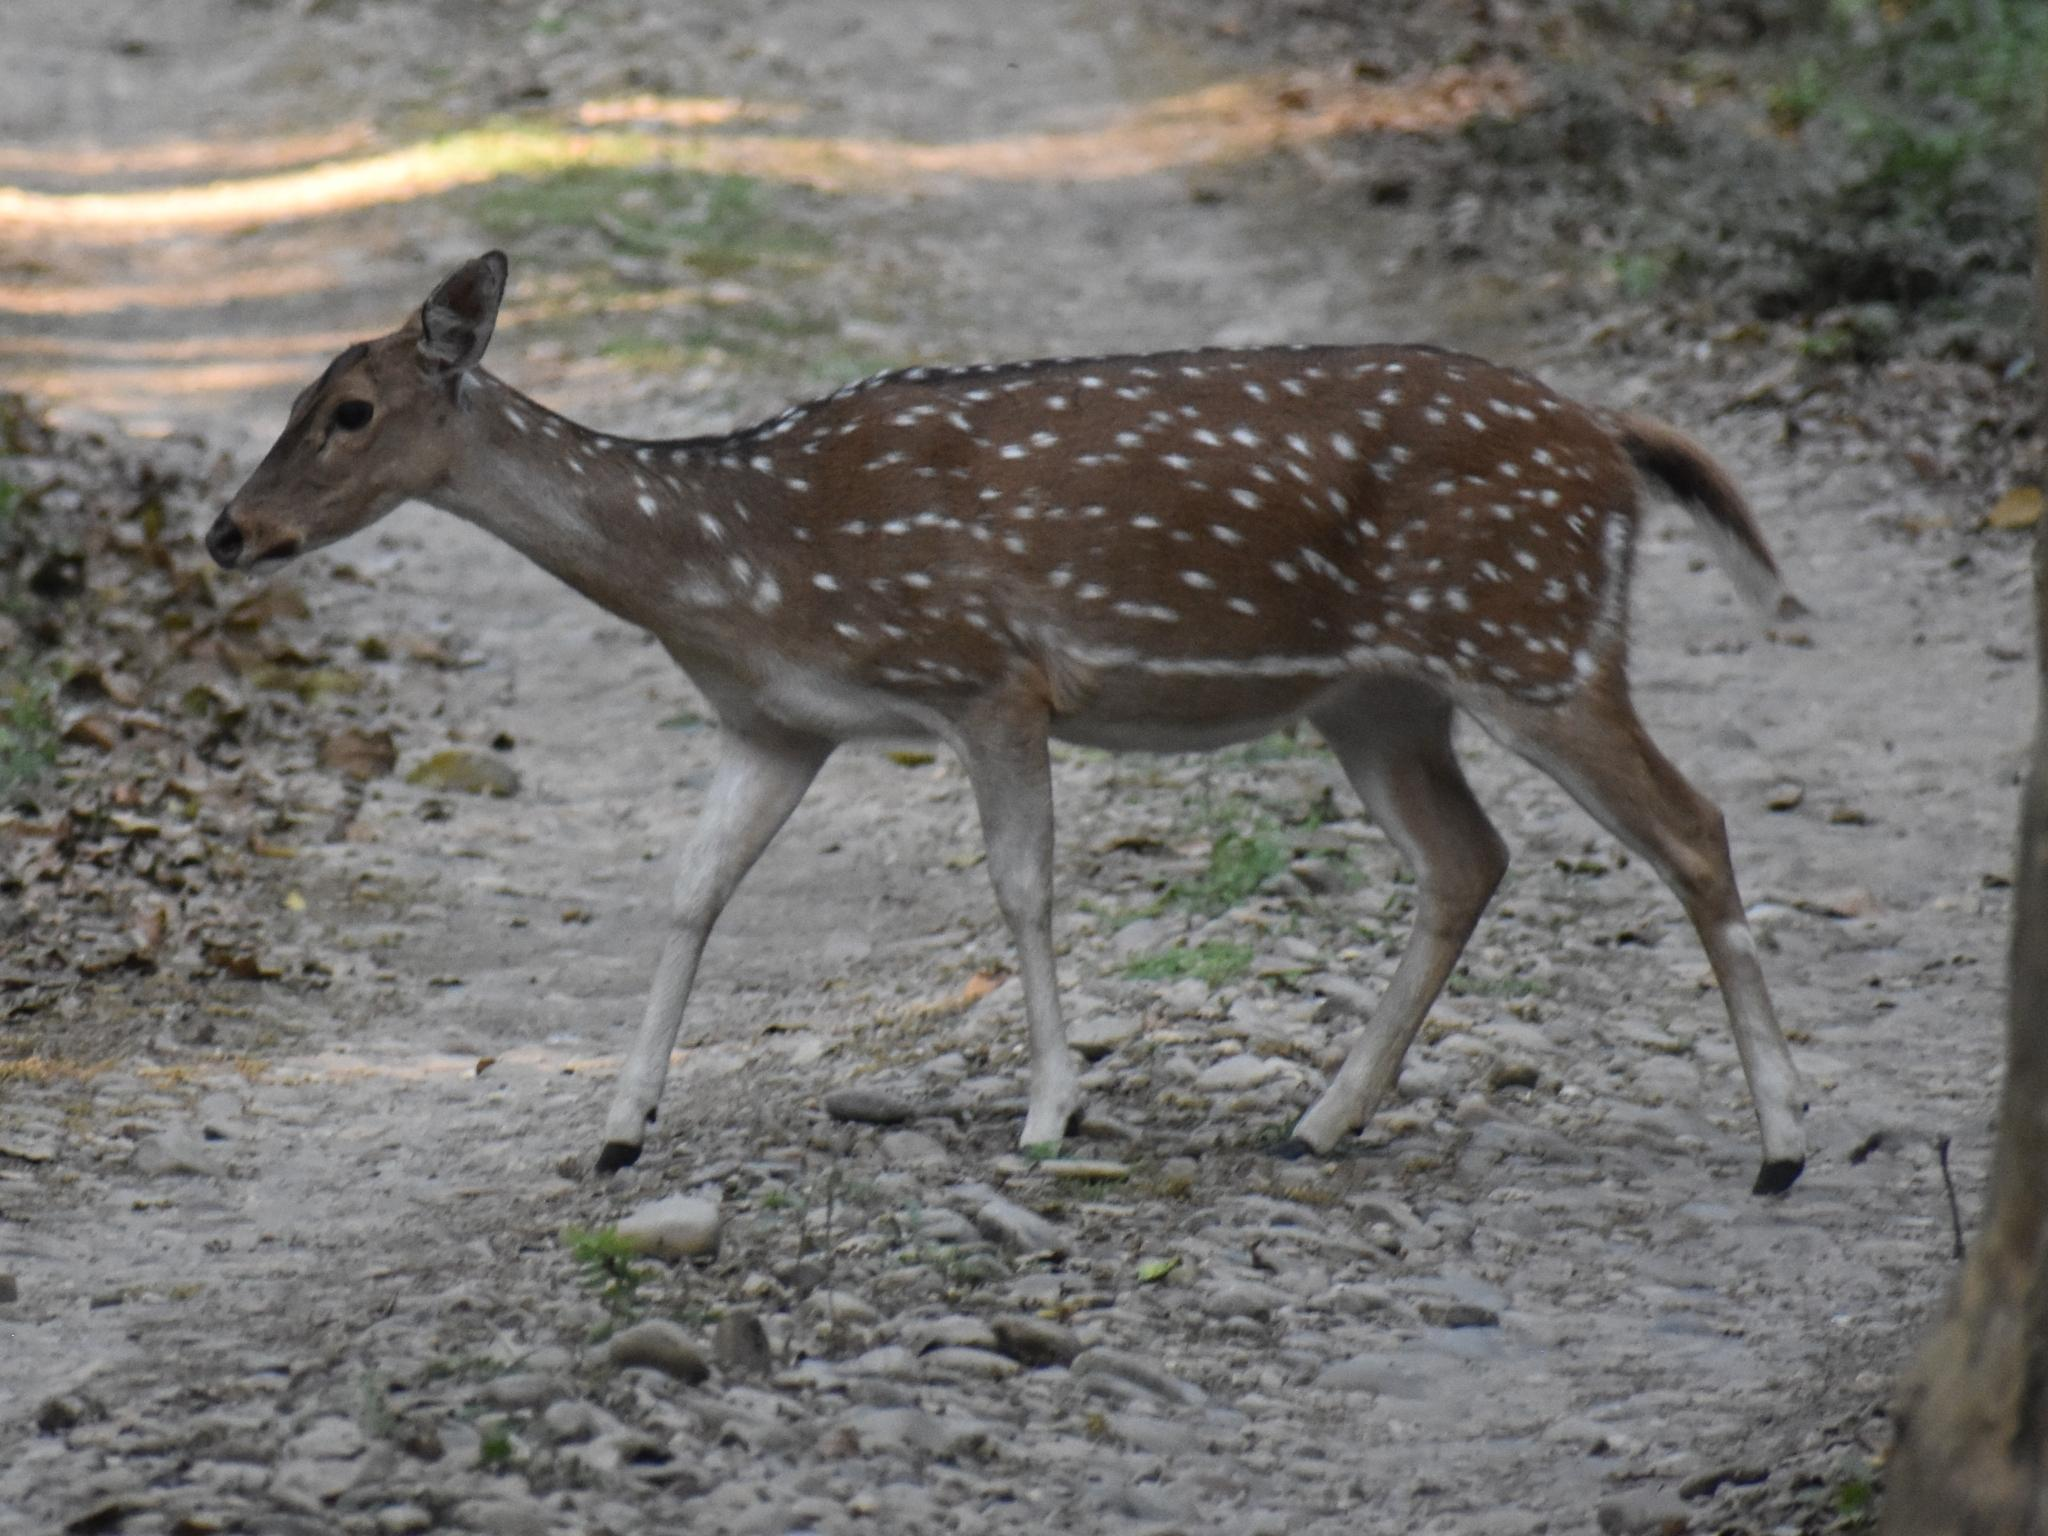Deer: (206, 252, 1804, 1187)
